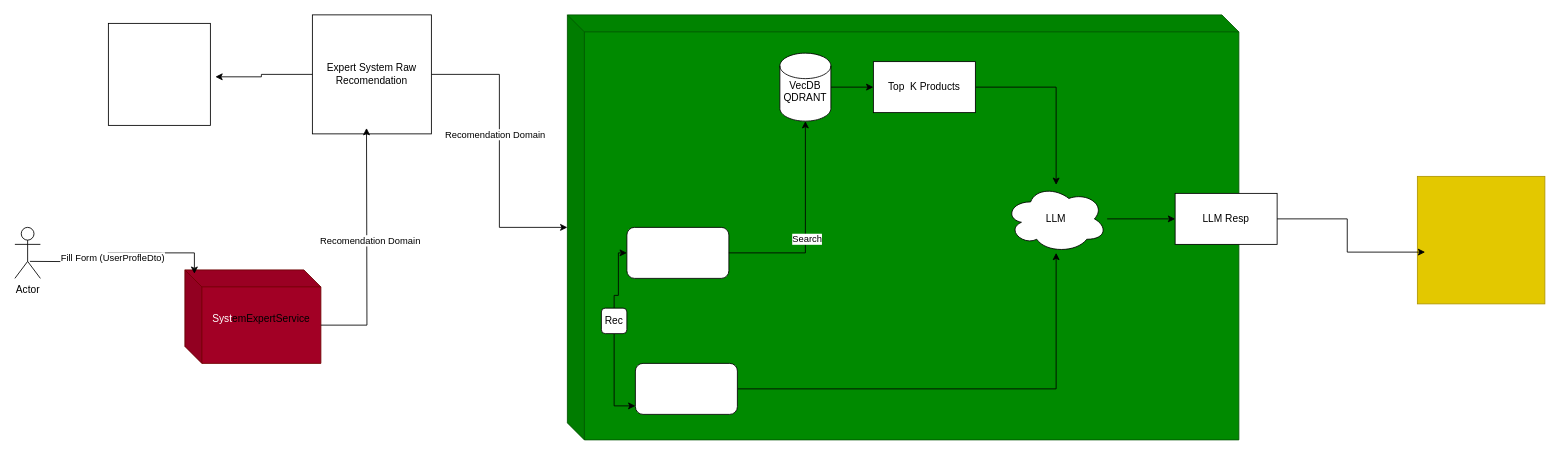
The diagram is 1560 pixels wide and 455 high, and some of its shapes have lost their labels. The shapes that lost their labels are listed below. From the top down, each one's centre as x and y in pixels, then its label:
At (x=159, y=74): "Recomendation Web Interface (RAW)".
At (x=677, y=252): "Pure Recomendation".
At (x=1481, y=240): "Recommended Products (WEB UI)".
At (x=686, y=388): "Explaination".
